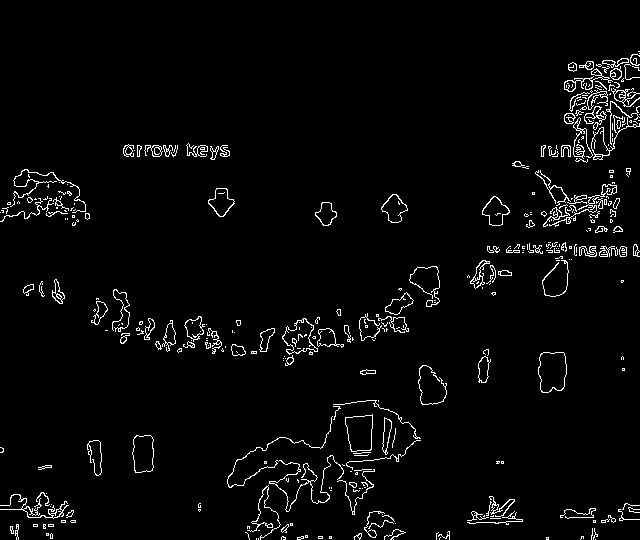down: (200, 180, 245, 227), (305, 196, 345, 235)
up: (471, 191, 520, 235), (375, 184, 415, 232)
